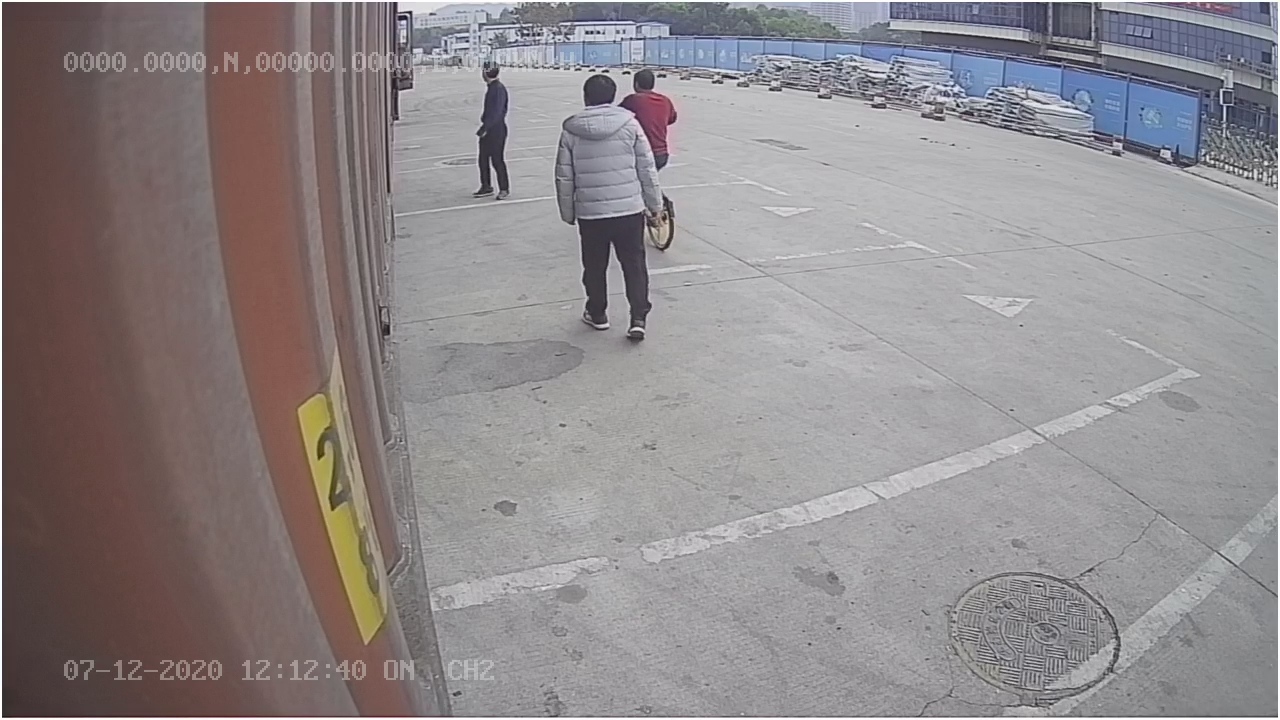person: (556, 73, 665, 341)
